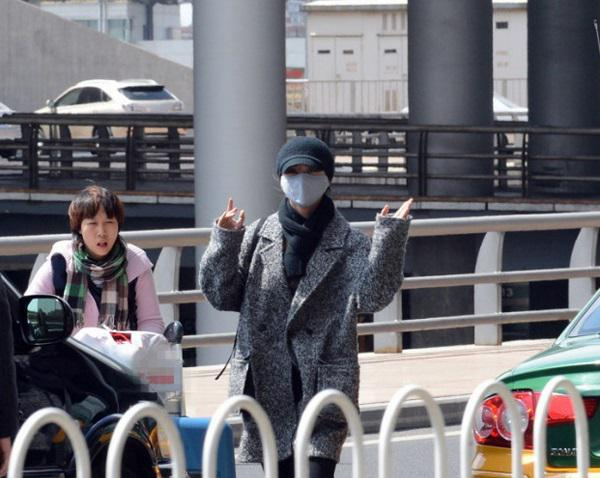NONE: (82, 215, 117, 251)
OK: (279, 156, 328, 205)
